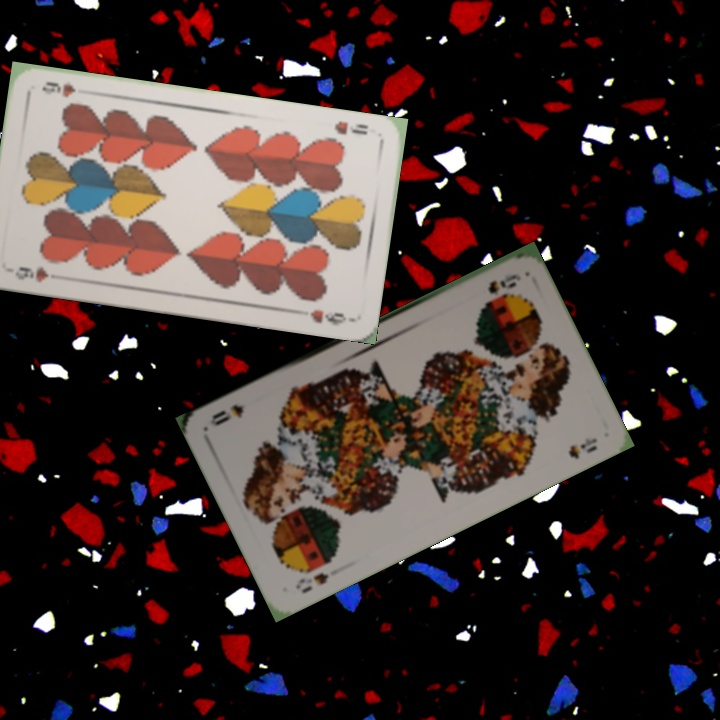H9: (11, 262, 51, 285), (330, 117, 371, 138)
SO: (291, 568, 331, 596), (483, 270, 523, 297)
